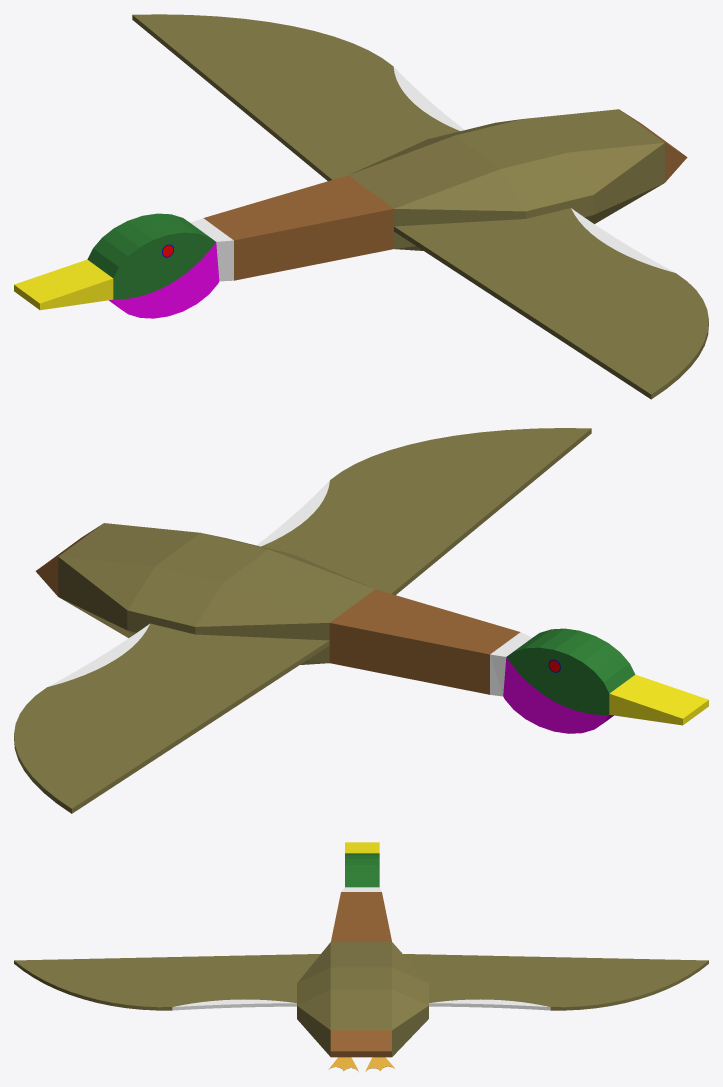
Rendered from universal_bird.fbx.
The picture shows the model from 3 angles, top to bottom: view 1: azimuth 30°, elevation 25°; view 2: azimuth 150°, elevation 25°; view 3: azimuth 270°, elevation 25°; orthographic projection. The views are drawn at different scales.
Visible parts, largest first — view 1: Component1, Component_1_1, Component_2_1; view 2: Component1, Component_2_1, Component_1_1; view 3: Component1, Component_1_1, Component_2_1.
Boxes of the visible parts, x1=… form: Component1: x1=14, y1=109, x2=687, y2=318; Component_1_1: x1=394, y1=208, x2=708, y2=399; Component_2_1: x1=132, y1=14, x2=464, y2=180; Component1: x1=35, y1=523, x2=708, y2=733; Component_2_1: x1=14, y1=623, x2=329, y2=813; Component_1_1: x1=256, y1=428, x2=591, y2=594; Component1: x1=297, y1=842, x2=428, y2=1071; Component_1_1: x1=14, y1=954, x2=320, y2=1010; Component_2_1: x1=403, y1=954, x2=708, y2=1010.
Size of the model in its own units: 110 by 20.01 by 156.
